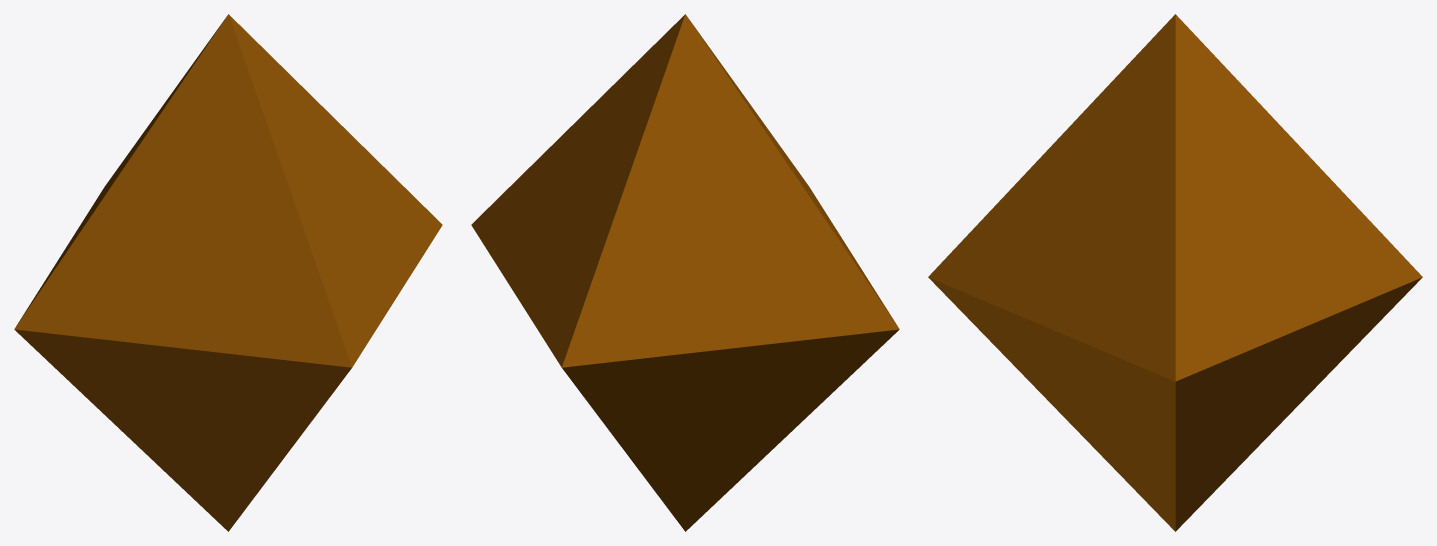
The model's file is campfire_midton.fbx.
The picture shows the model from 3 angles, left to right: view 1: azimuth 30°, elevation 25°; view 2: azimuth 150°, elevation 25°; view 3: azimuth 270°, elevation 25°; orthographic projection.
Parts seen in each view (by area): view 1: campfire_fire_02; view 2: campfire_fire_02; view 3: campfire_fire_02.
Boxes of the visible parts, bbox=[...] form: campfire_fire_02: bbox=[14, 14, 442, 531]; campfire_fire_02: bbox=[471, 14, 899, 531]; campfire_fire_02: bbox=[928, 14, 1422, 531].
Bounding box in the file's own units: 1.73 × 2 × 1.73.
